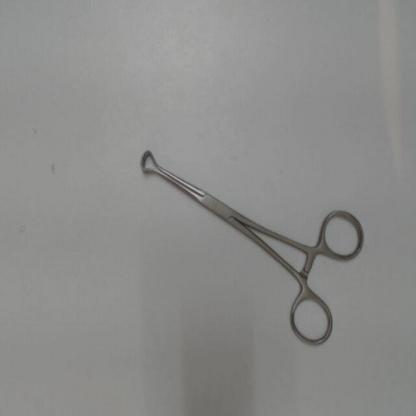Babcock Tissue Forceps: (136, 142, 368, 352)
